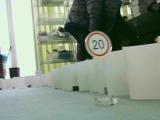speed_20: (82, 30, 113, 59)
